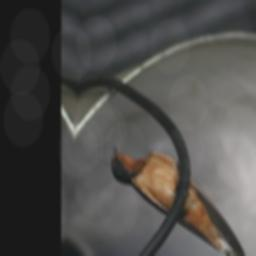Swallow: (98, 138, 256, 256)
